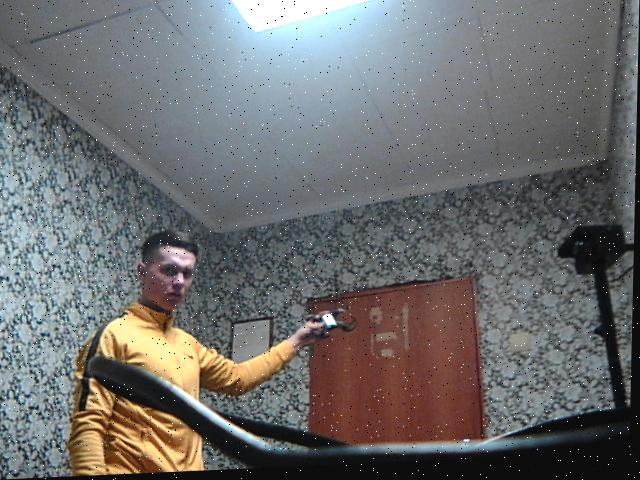drone: (296, 289, 362, 356)
